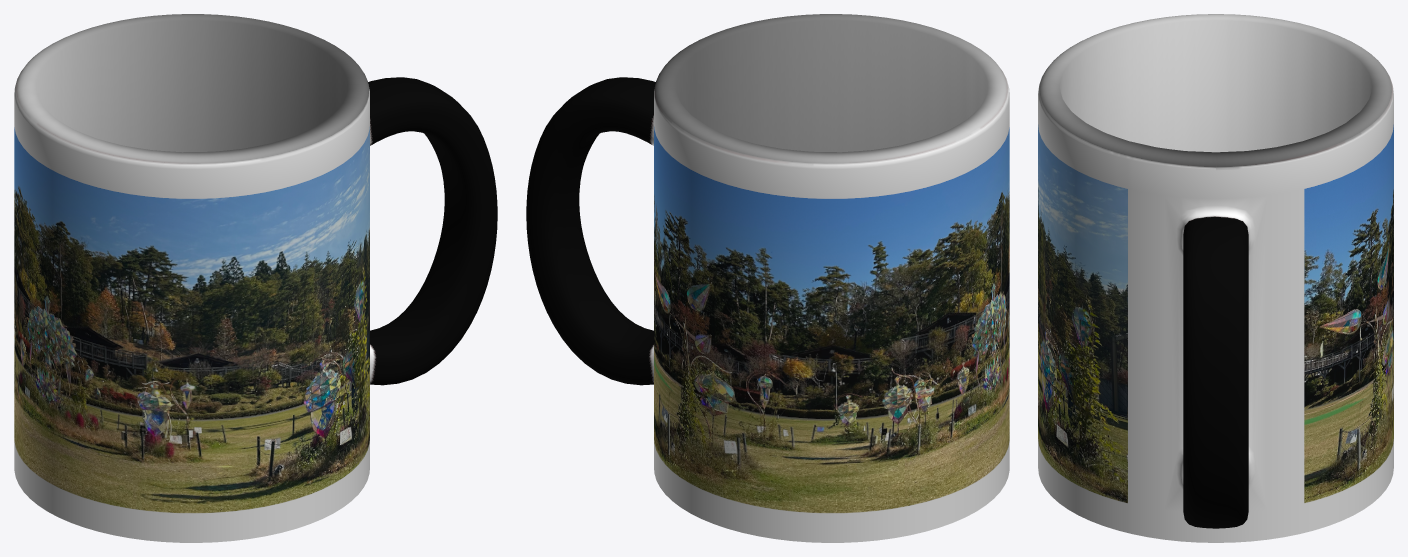
File: Nomal_blue.obj
3 renders of one model, left to right at view 1: azimuth 30°, elevation 25°; view 2: azimuth 150°, elevation 25°; view 3: azimuth 270°, elevation 25°, orthographic.
Parts seen in each view (by area): view 1: handle-01.lo; view 2: handle-01.lo; view 3: handle-01.lo.
Boxes of the visible parts, x1,y1,x2,y2 form: handle-01.lo: (14,14,497,542); handle-01.lo: (526,14,1009,542); handle-01.lo: (1038,14,1393,542).
Size of the model in its own units: 120 by 97 by 82.
1 material, 1 textured.
